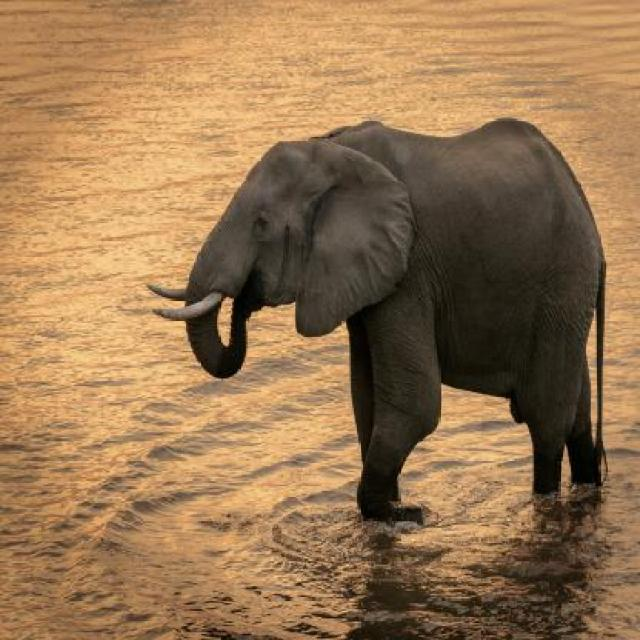Elephant: (138, 107, 616, 556)
